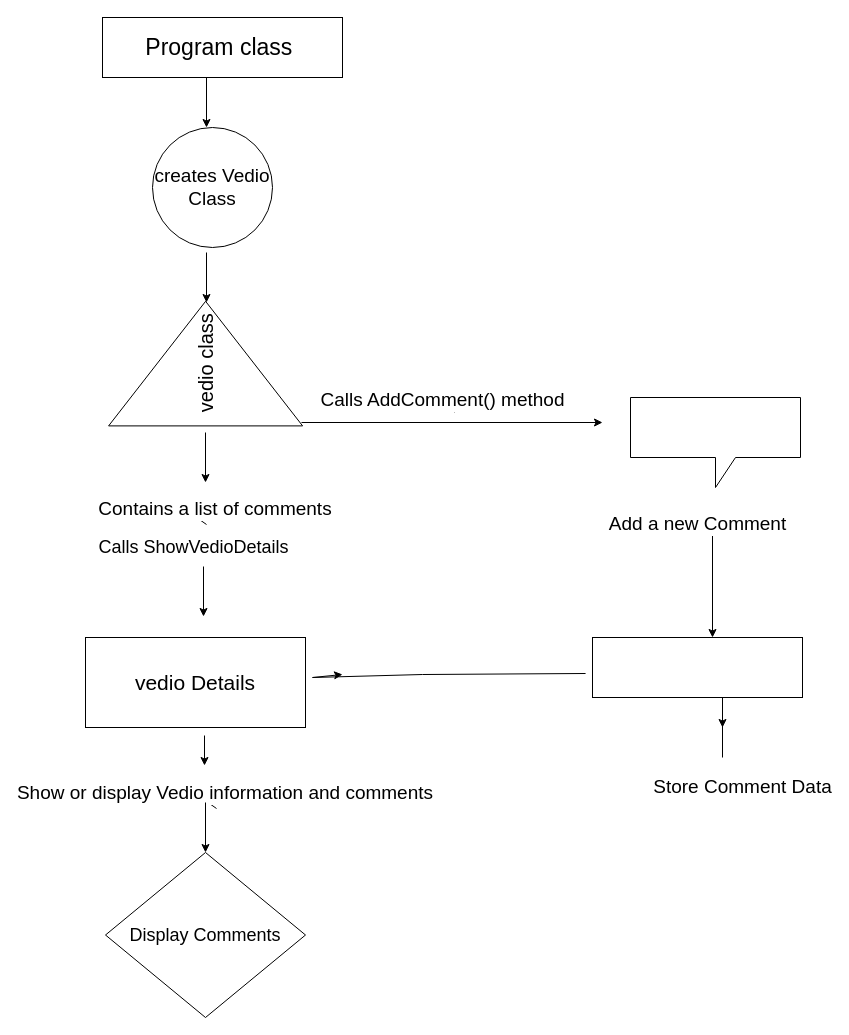
The diagram is 849 pixels wide and 1035 high, and some of its shapes have lost their labels. The shapes that lost their labels are listed below. From the top down, each one's centre as x and y in pixels, then its label:
At (715,442): "Comment Class".
At (697,667): "Add Vedio comments".
